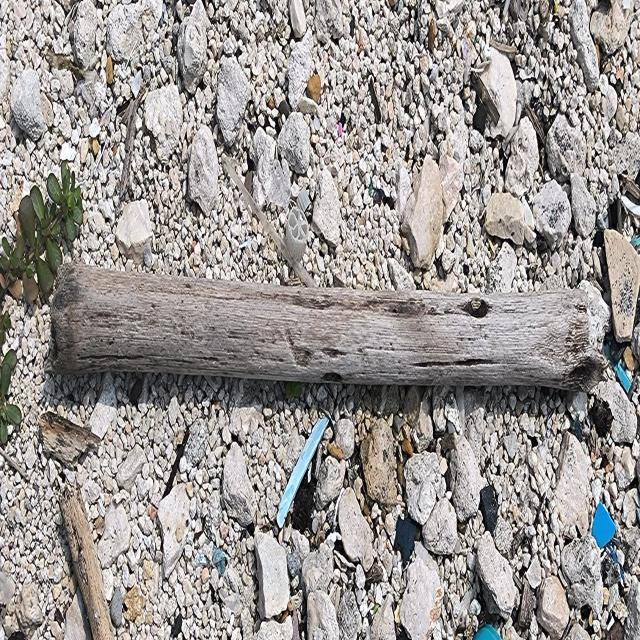wood_waste: (43, 259, 613, 398)
